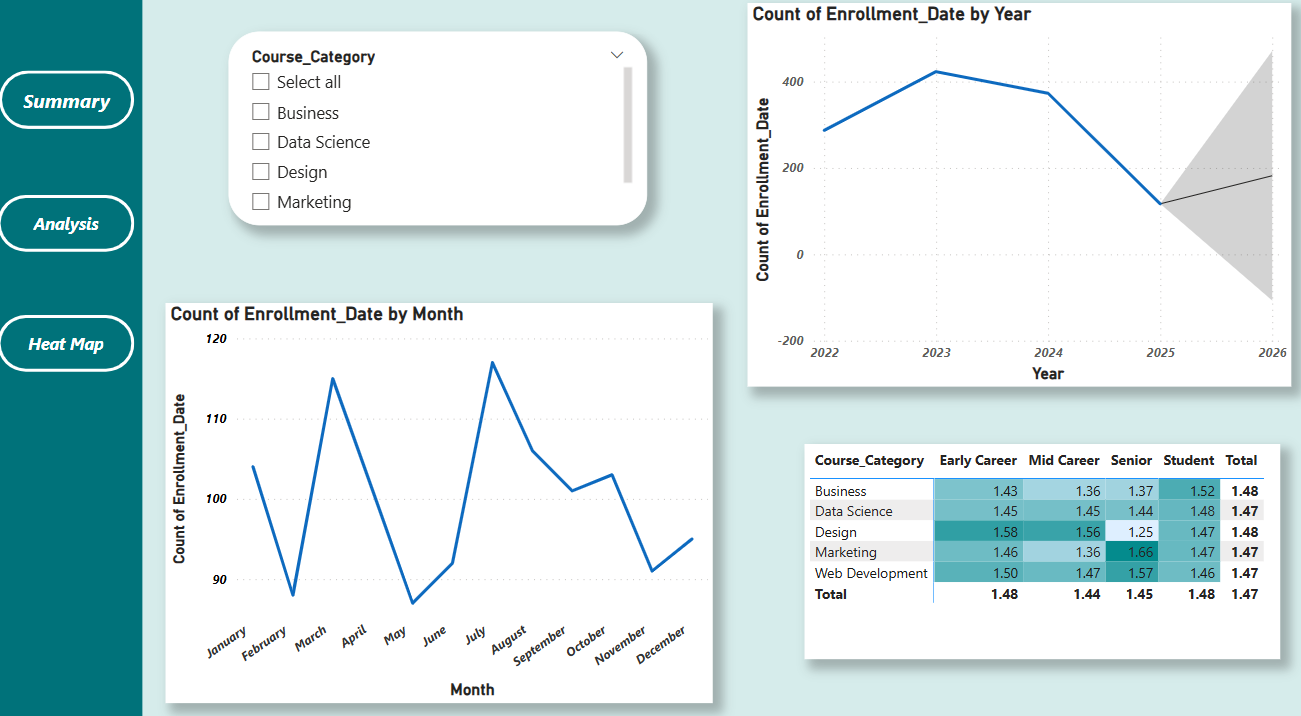

The dashboard page shown, as its layout file describes it:
{"tool":"powerbi","page":{"name":"Page 3","canvas":[1280,720],"ordinal":2},"visuals":[{"type":"lineChart","fields":{"Category":["Final.Enrollment_Date.Variation.Date Hierarchy.Year","Final.Enrollment_Date.Variation.Date Hierarchy.Month"],"Y":["CountNonNull(Final.Enrollment_Date)"]},"box":[737.8,14.6,527.5,372.1],"z":0},{"type":"lineChart","fields":{"Category":["Final.Enrollment_Date.Variation.Date Hierarchy.Year","Final.Enrollment_Date.Variation.Date Hierarchy.Month"],"Y":["CountNonNull(Final.Enrollment_Date)"]},"box":[173.1,305.8,530.7,388.3],"z":1000},{"type":"textbox","box":[0,0,150.5,720],"z":2000},{"type":"actionButton","box":[11.3,79.3,131.1,56.6],"z":3000},{"type":"actionButton","box":[9.7,200.6,132.7,55],"z":4000},{"type":"actionButton","box":[9.7,317.1,132.7,55],"z":5000},{"type":"slicer","fields":{"Values":["Final.Course_Category"]},"box":[234.6,42.1,406.1,187.7],"z":6000},{"type":"pivotTable","fields":{"Values":["Avg(Final.Time_Spent (hrs))"],"Rows":["Final.Course_Category"],"Columns":["Final.Experience Level"]},"box":[792.8,441.7,461.1,208.7],"z":7000}]}

Visuals, with their boxes in screenshot pixels (x1, y1, x2, y2), scaled from the page's 1280x720 canvas onto the 1301x716 screenshot:
lineChart - Final.Enrollment_Date.Variation.Date Hierarchy.Year x Final.Enrollment_Date.Variation.Date Hierarchy.Month: rect(750, 15, 1286, 385)
lineChart - Final.Enrollment_Date.Variation.Date Hierarchy.Year x Final.Enrollment_Date.Variation.Date Hierarchy.Month: rect(176, 304, 715, 690)
textbox: rect(0, 0, 153, 715)
actionButton: rect(11, 79, 145, 135)
actionButton: rect(10, 199, 145, 254)
actionButton: rect(10, 315, 145, 370)
slicer - Final.Course_Category: rect(238, 42, 651, 229)
pivotTable - Avg(Final.Time_Spent (hrs)) x Final.Course_Category: rect(806, 439, 1274, 647)
